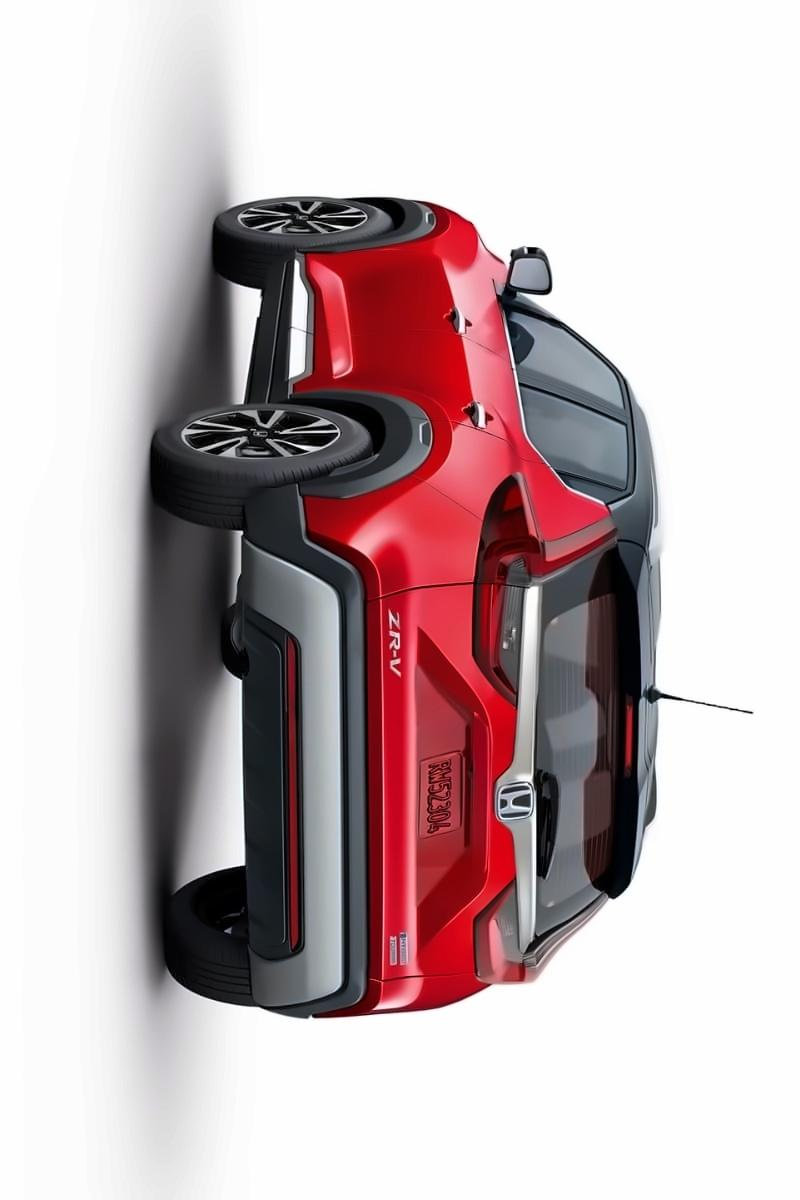Car boot: (354, 542, 674, 992)
Fender - -F-L-: (330, 371, 598, 561)
Passenger-s door - -F-L-: (255, 252, 663, 401)
Passenger-s door - -R-L-: (276, 317, 665, 498)
Rear bumper: (236, 470, 477, 1028)
Rear light - -L-: (469, 876, 538, 986)
Rear light - -R-: (470, 469, 540, 714)
Side bumper - -L-: (230, 230, 344, 418)
Side mirror - -L-: (491, 245, 562, 307)
